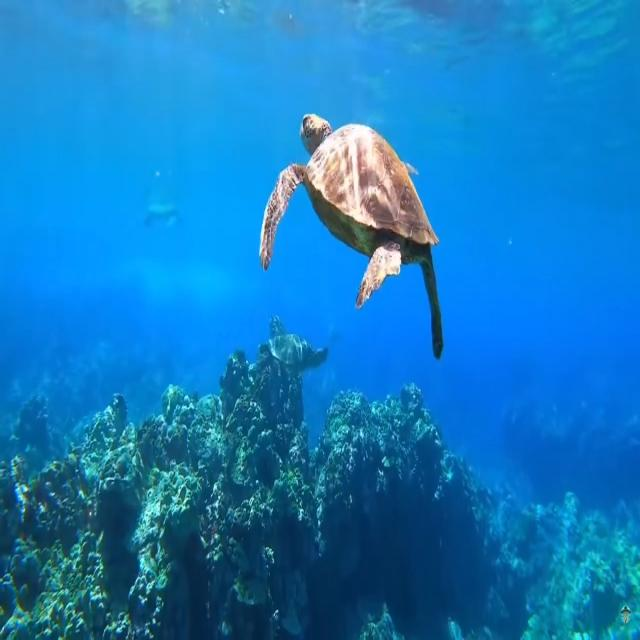Sea turtle: (258, 113, 446, 363)
